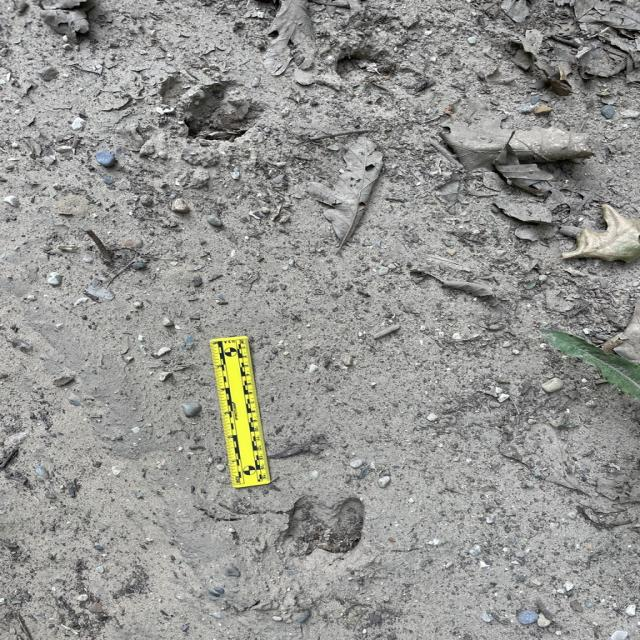deer: (170, 80, 268, 141), (288, 489, 367, 556)
